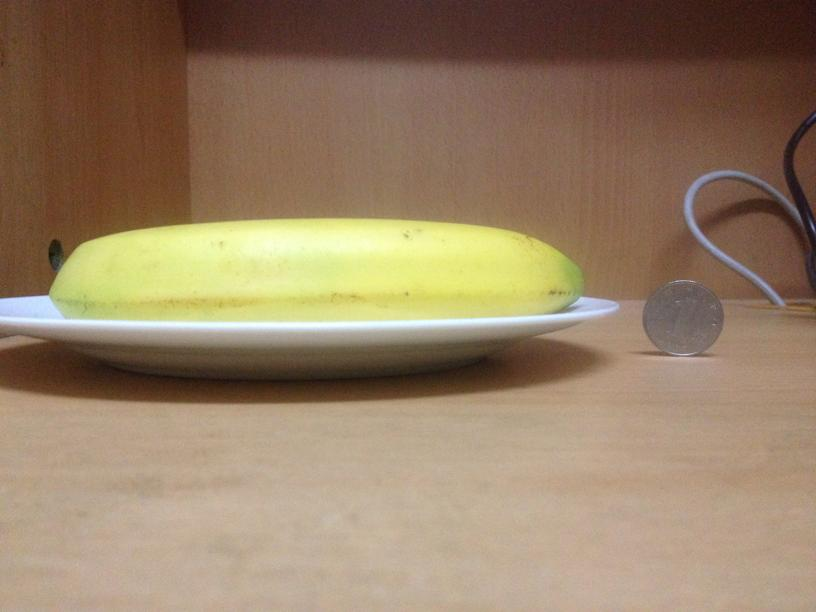banana: (49, 214, 582, 321)
coin: (640, 278, 724, 355)
